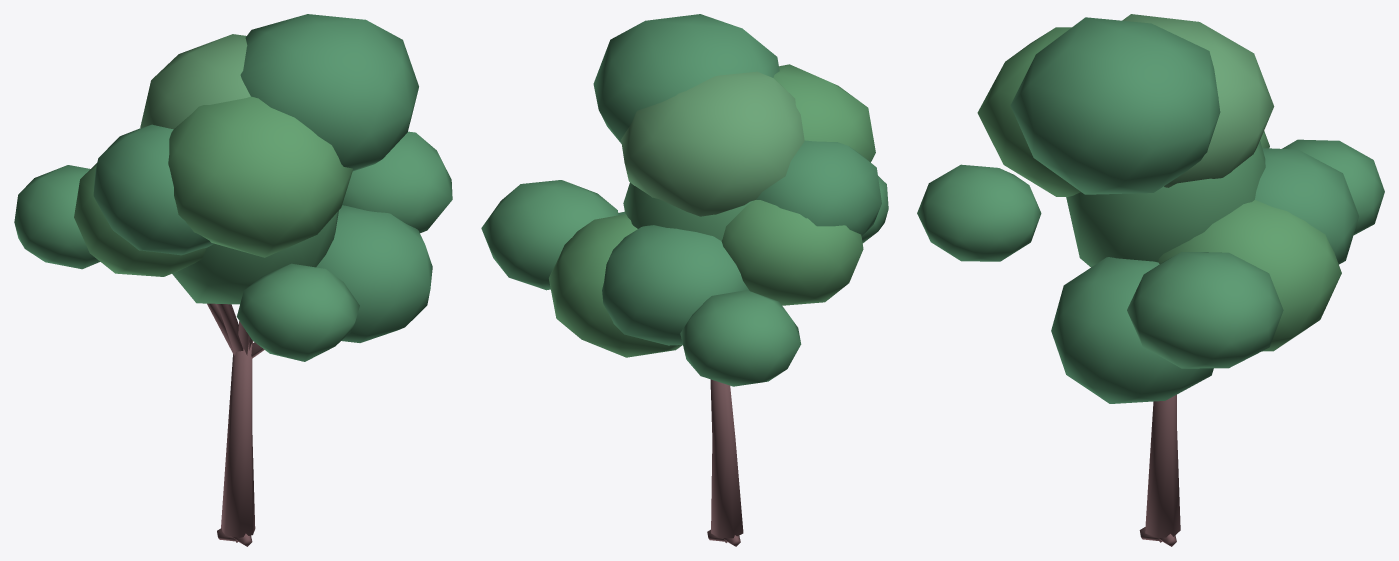
The model's file is oak_b1.glb.
3 renders of one model, left to right at view 1: azimuth 30°, elevation 25°; view 2: azimuth 150°, elevation 25°; view 3: azimuth 270°, elevation 25°, orthographic. The views are drawn at different scales.
Visible parts, largest first — view 1: oak_b1; view 2: oak_b1; view 3: oak_b1.
Boxes of the visible parts, x1,y1,x2,y2 form: oak_b1: [14, 14, 452, 546]; oak_b1: [481, 14, 888, 546]; oak_b1: [917, 14, 1384, 546].
Size of what is drawn, in the model's own units: 11.97 by 16 by 12.52.
